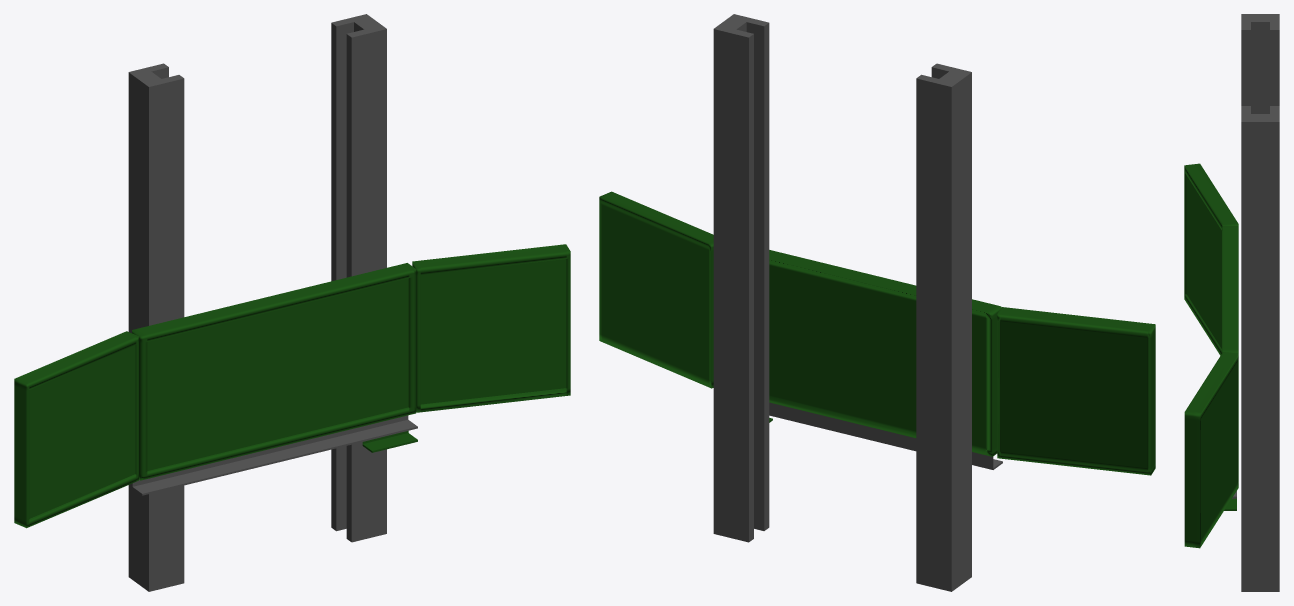
File: Tafel.fbx
The picture shows the model from 3 angles, left to right: view 1: azimuth 30°, elevation 25°; view 2: azimuth 150°, elevation 25°; view 3: azimuth 270°, elevation 25°; orthographic projection. The views are drawn at different scales.
Parts seen in each view (by area): view 1: Tafel_LOD0; view 2: Tafel_LOD0; view 3: Tafel_LOD0.
Boxes of the visible parts, x1,y1,x2,y2 form: Tafel_LOD0: [14, 14, 570, 591]; Tafel_LOD0: [599, 14, 1155, 591]; Tafel_LOD0: [1184, 14, 1279, 591].
Size of the model in its own units: 4 by 3.5 by 0.6414.
